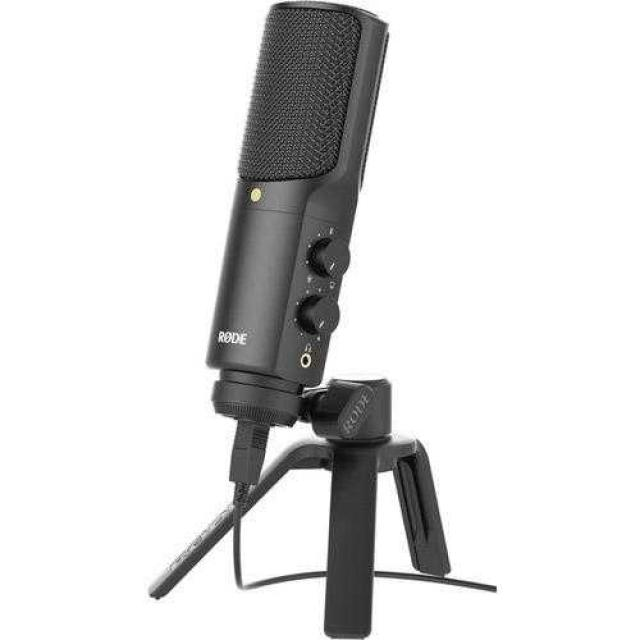microphone: (213, 6, 387, 419)
